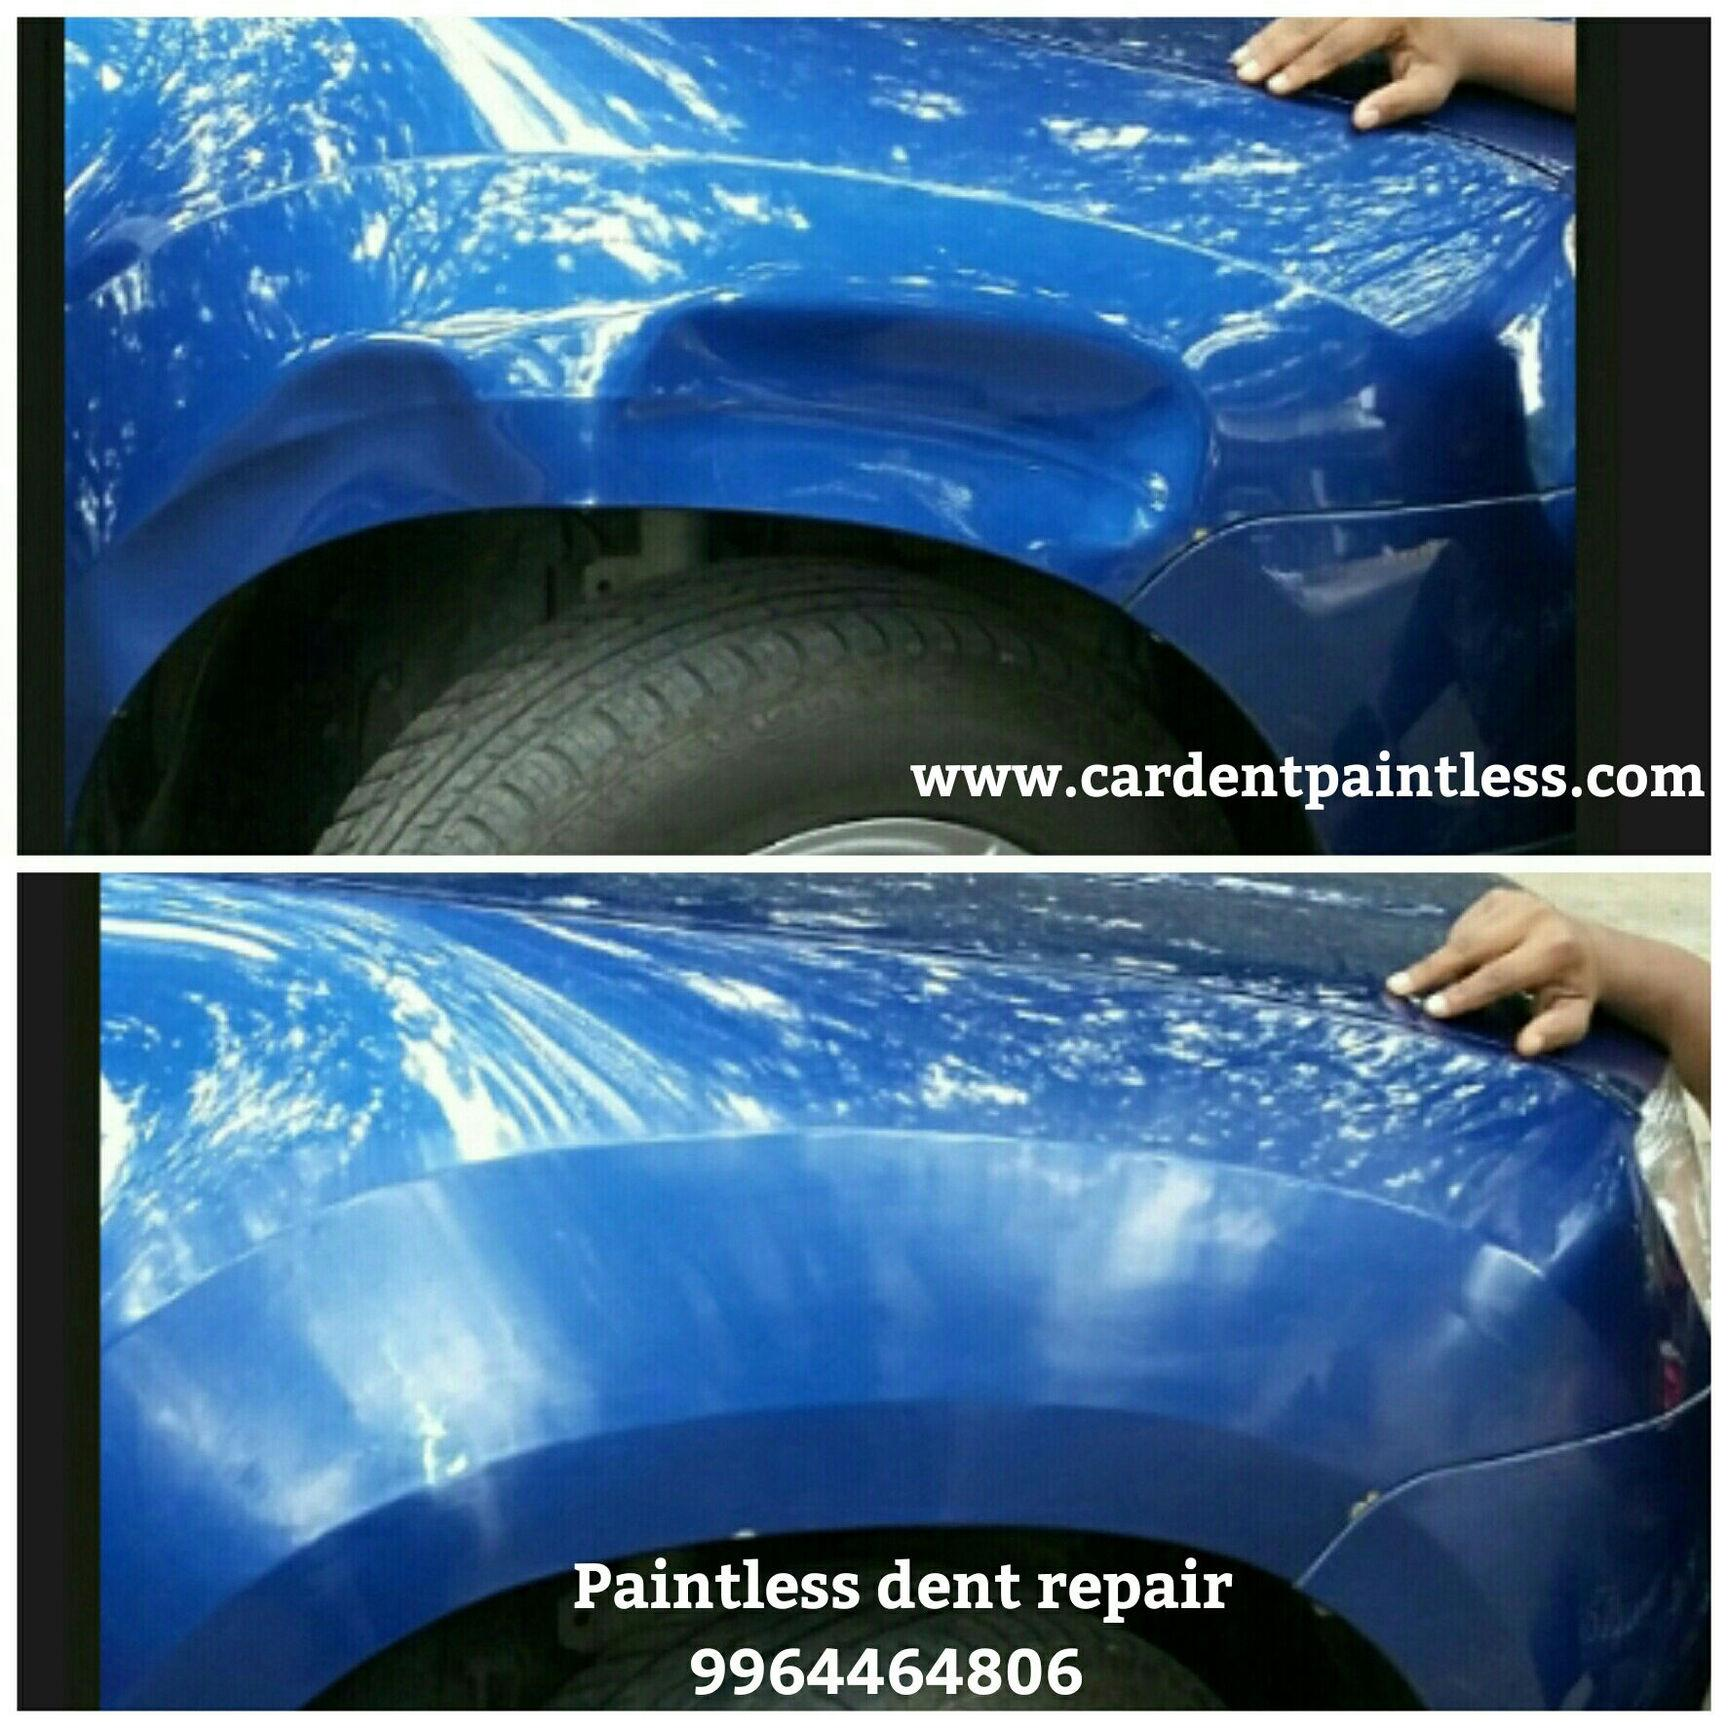dent: (130, 264, 1275, 676)
